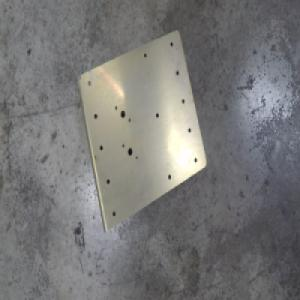MetalSheet: (74, 27, 207, 236)
